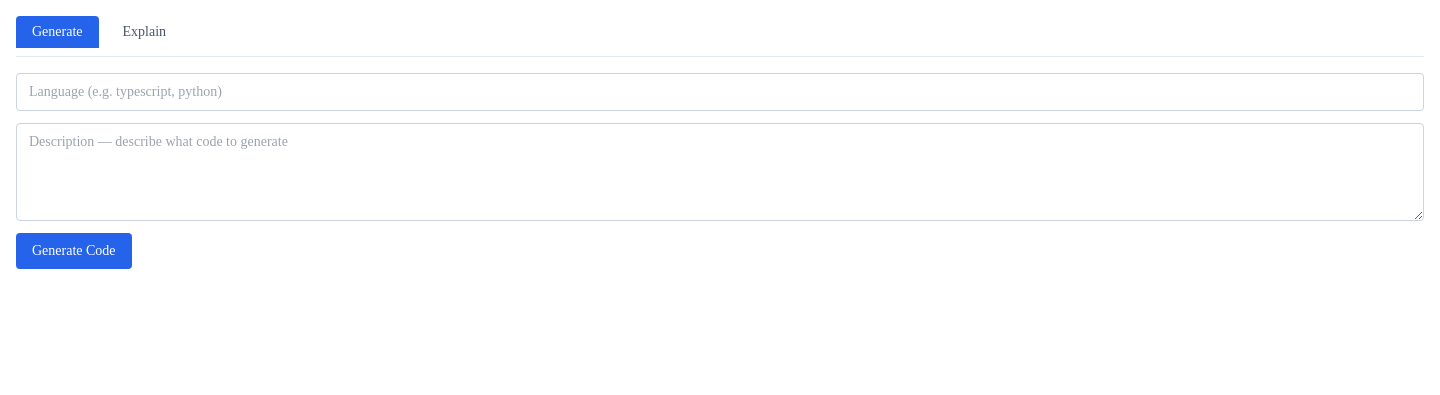
Test: CodeAssistant explain flow › shows error when explain API returns 500
The width and height of the screenshot is (1440, 395).
Click the button "Explain" at (144, 32), box x1=106 y1=16 x2=182 y2=48
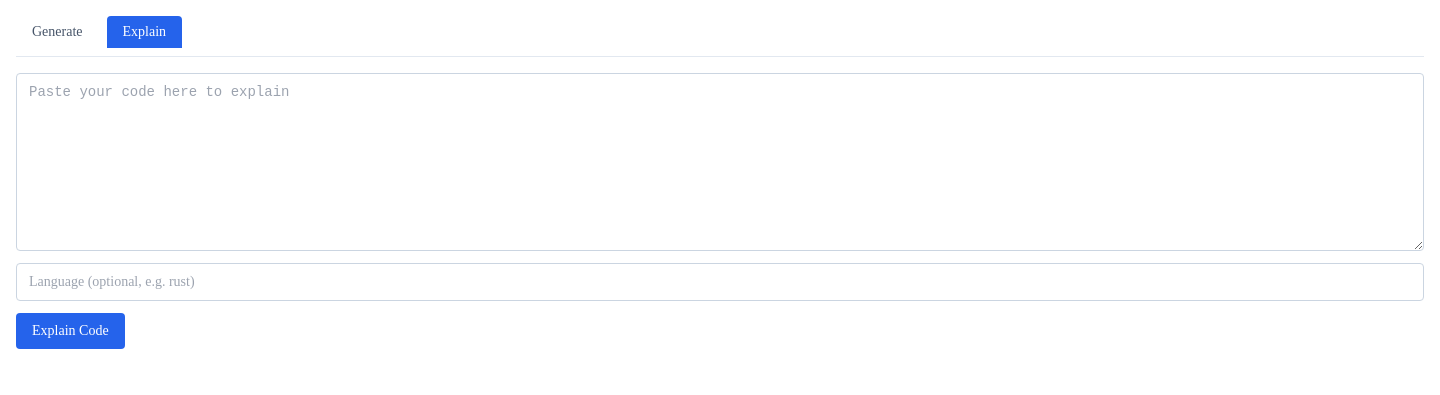
Type "const x = 1;" into the text box with placeholder "Paste your code here to explain" at (720, 162), box x1=16 y1=73 x2=1424 y2=251
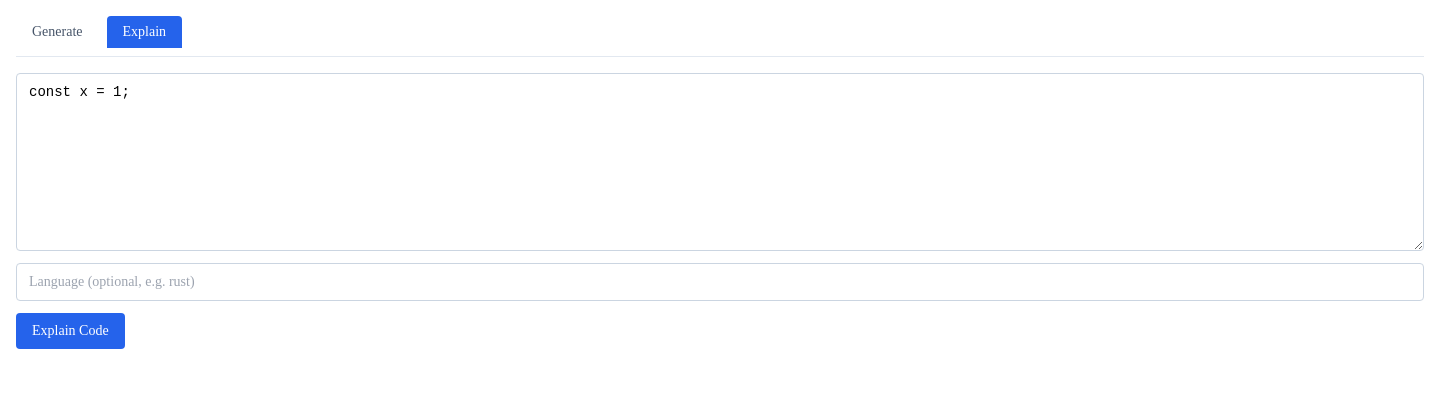
Click the button "Explain Code" at (70, 331), box x1=16 y1=313 x2=125 y2=349
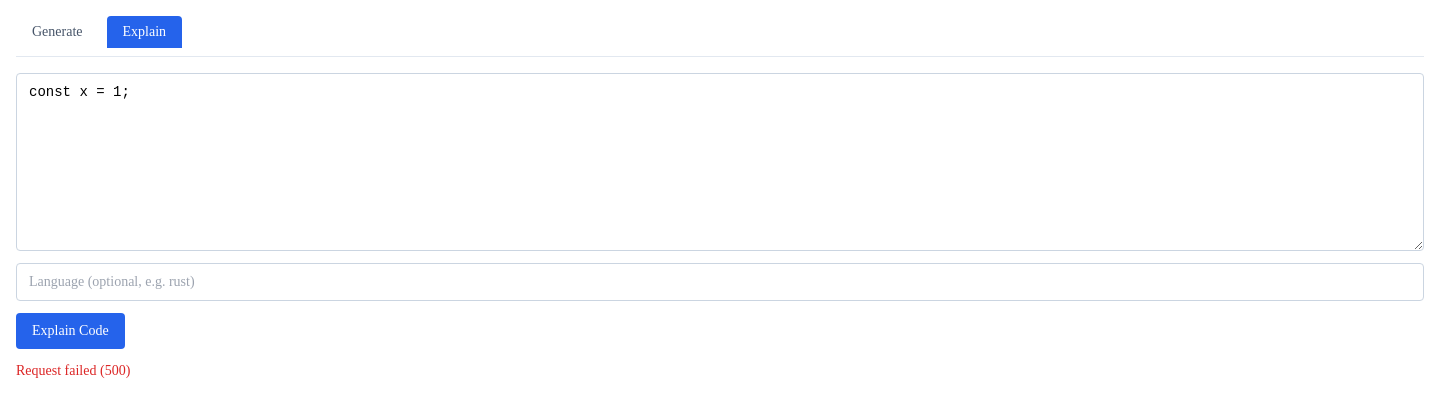
Now the text "Request failed (500)" is shown, box x1=16 y1=363 x2=130 y2=378
